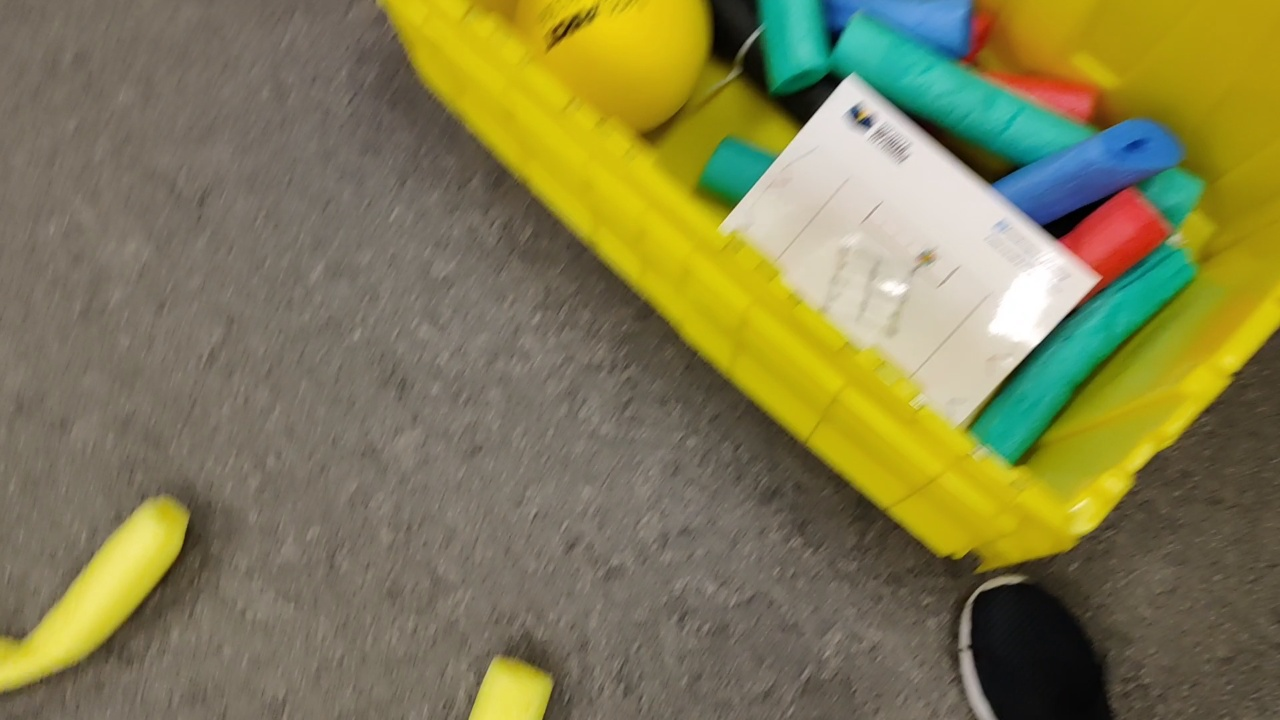Ball: (511, 3, 712, 134)
